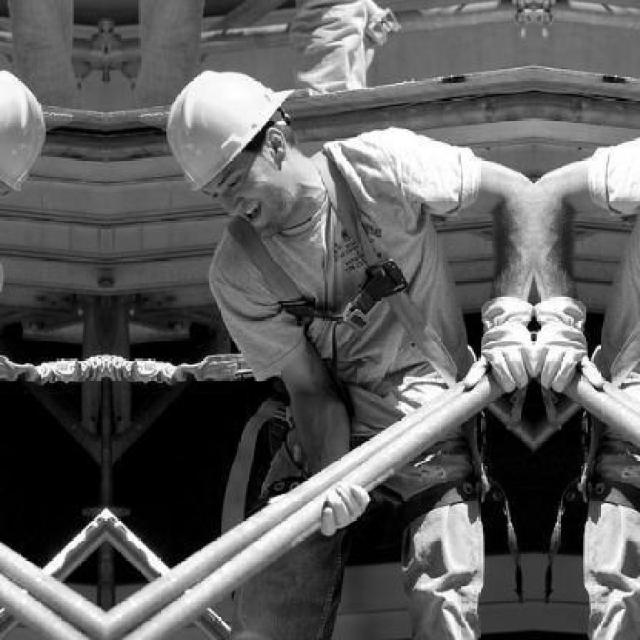Vest: (143, 68, 531, 637), (536, 67, 638, 638)
